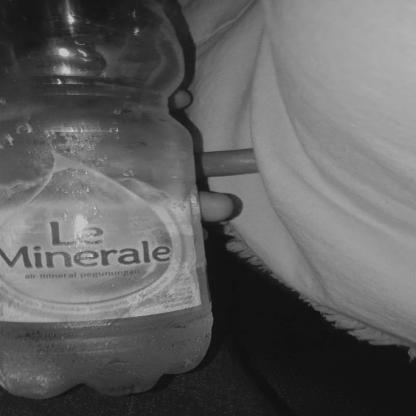plastic_bottles: (0, 0, 217, 396)
